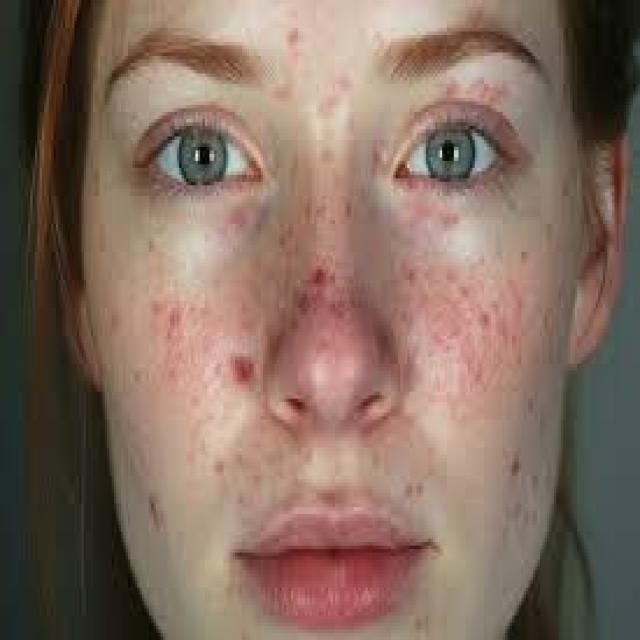Acne: (412, 264, 534, 398), (140, 292, 258, 406), (271, 264, 360, 323)
